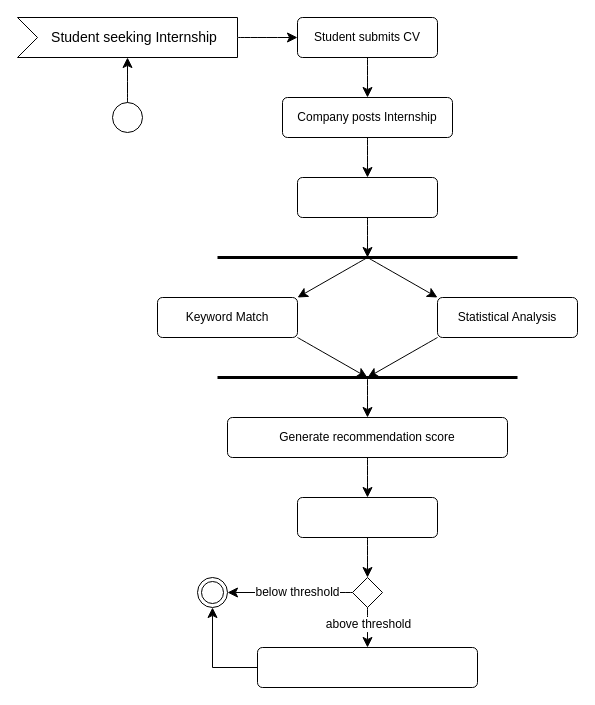
The diagram is 595 pixels wide and 705 high, and some of its shapes have lost their labels. Here are the shapes that lost their labels. From the top down, the box of each, then its label:
(296, 176, 438, 218): Recommendation algorithm
(296, 496, 438, 538): Score evaluation
(256, 646, 478, 688): Notify Student and Company
